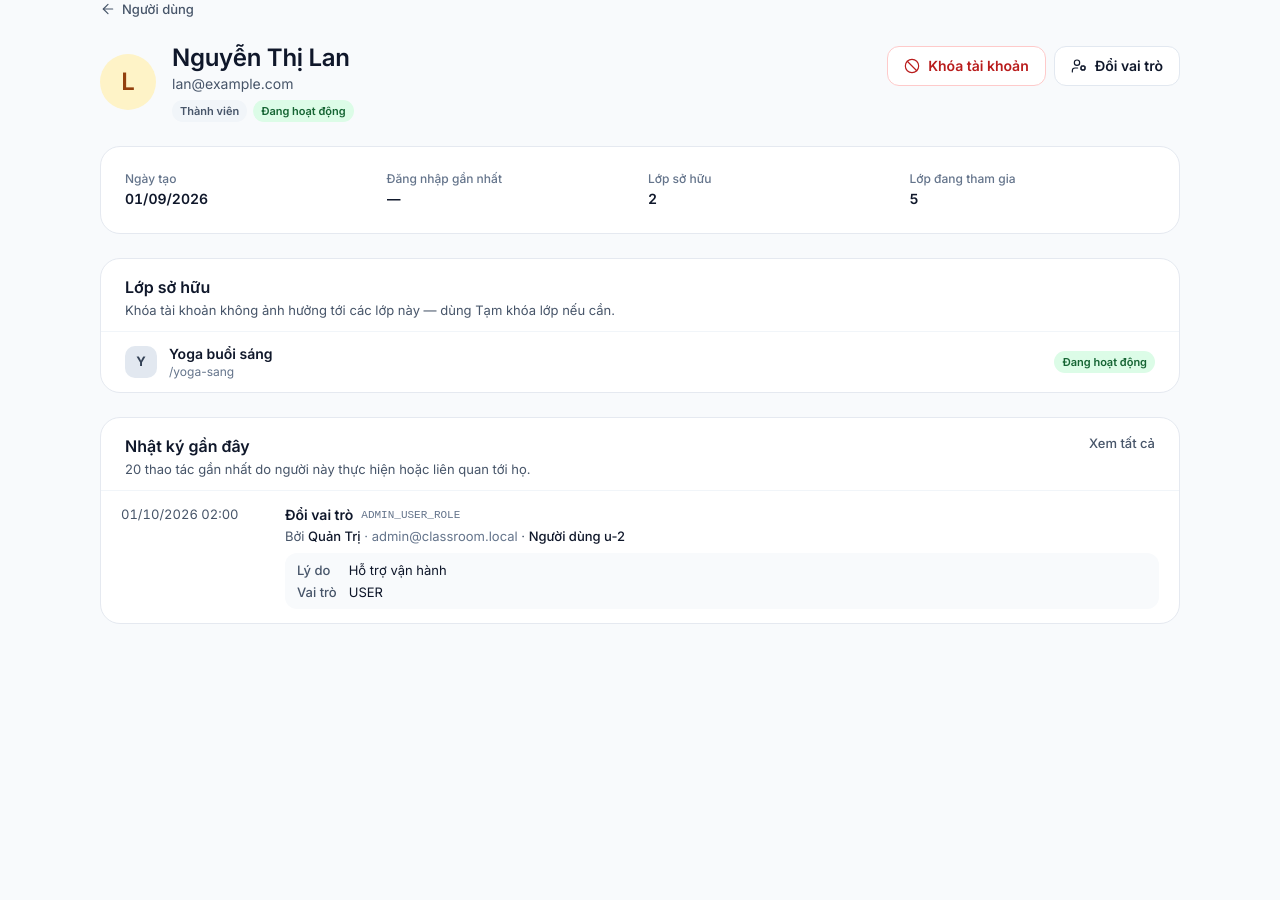
Test: AdminUserDetail actions › shows a 400 from the server inline (e.g. a rule the UI could not know)
Click the button "Khóa tài khoản" at (966, 66), box [887,46,1046,86]
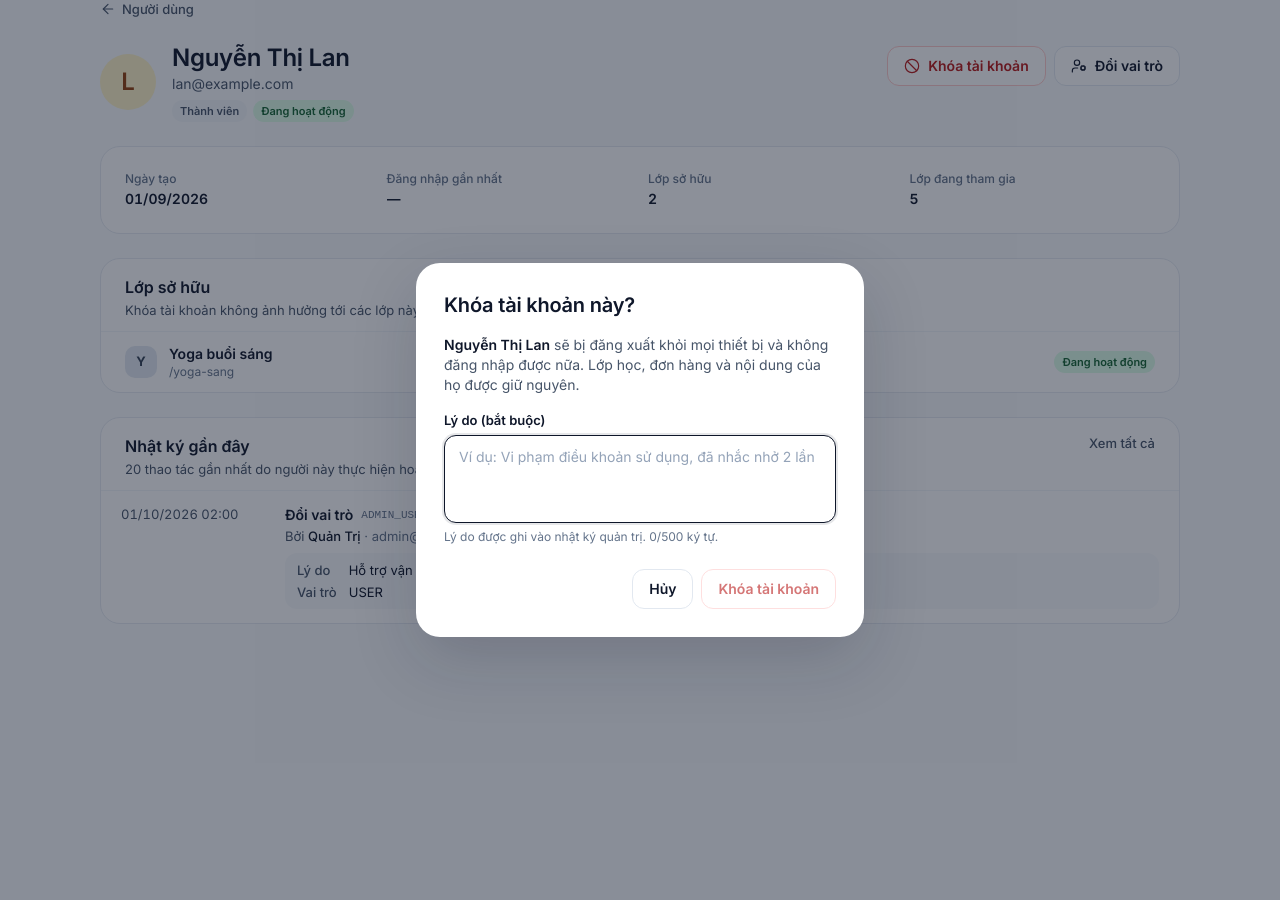
Type "x" into the text box labelled "Lý do (bắt buộc)" at (640, 479), box [444,435,836,523]
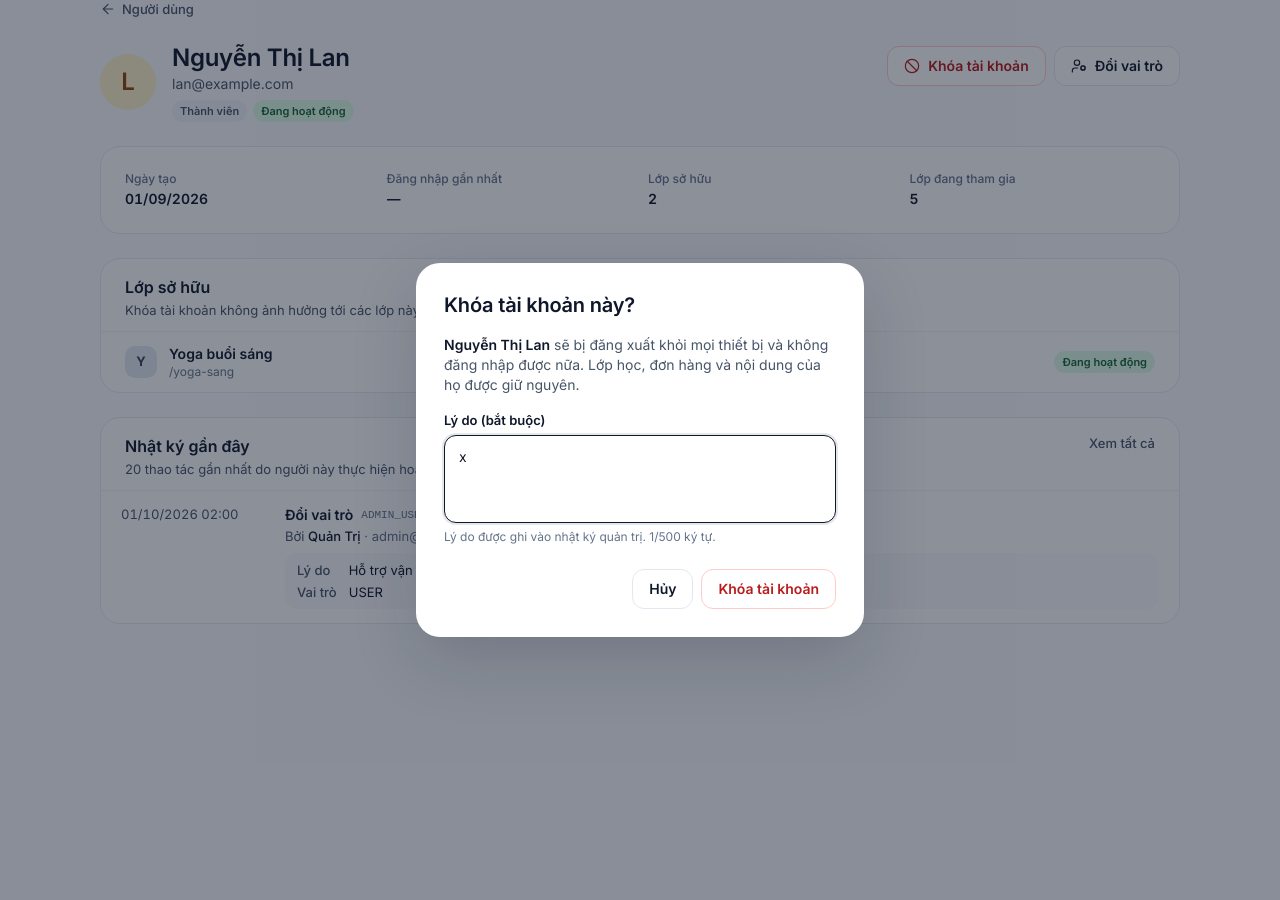
Click the button "Khóa tài khoản" at (769, 589), box [701,569,836,609]
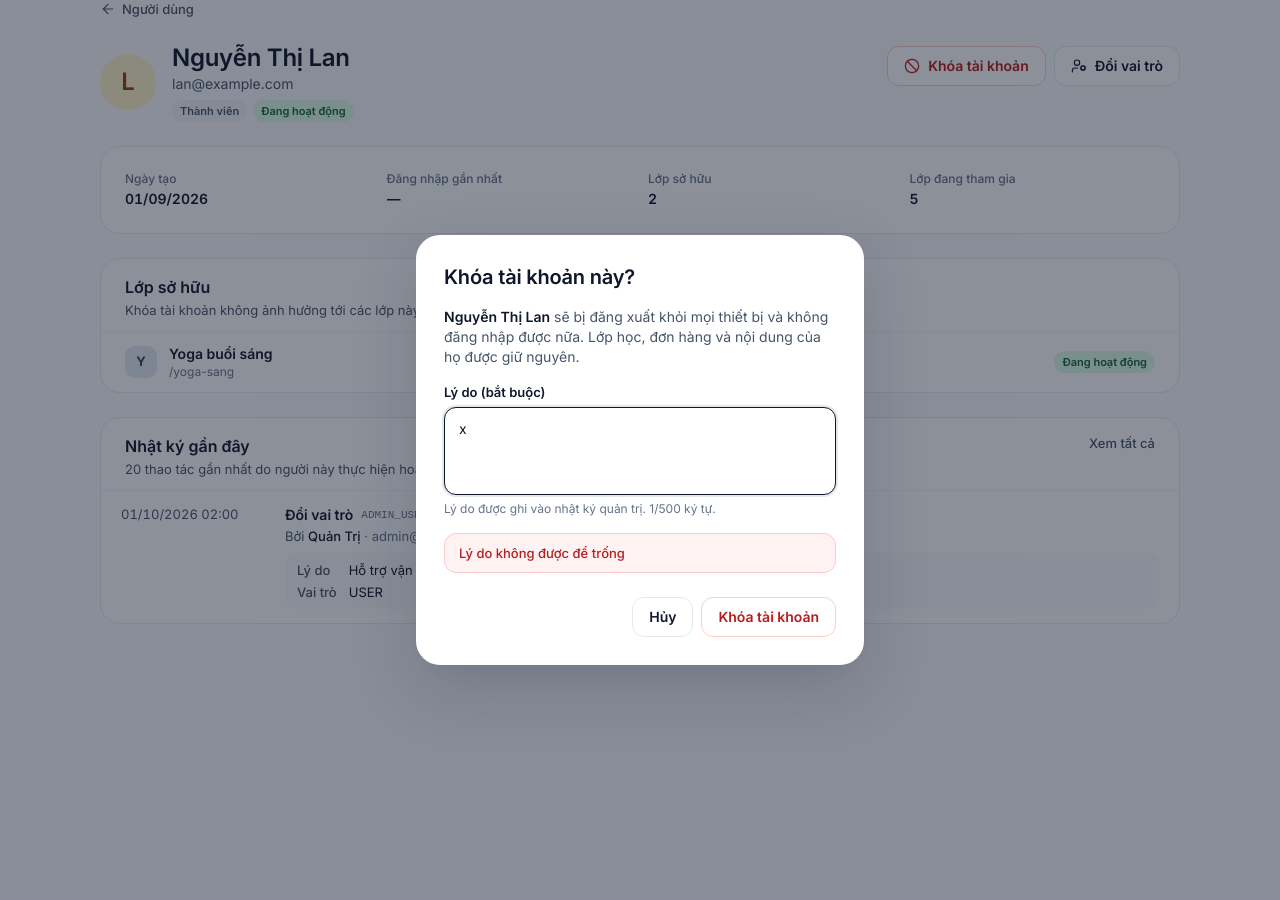
Check: the message reads "Lý do không được để trống", box [459,545,625,561]
